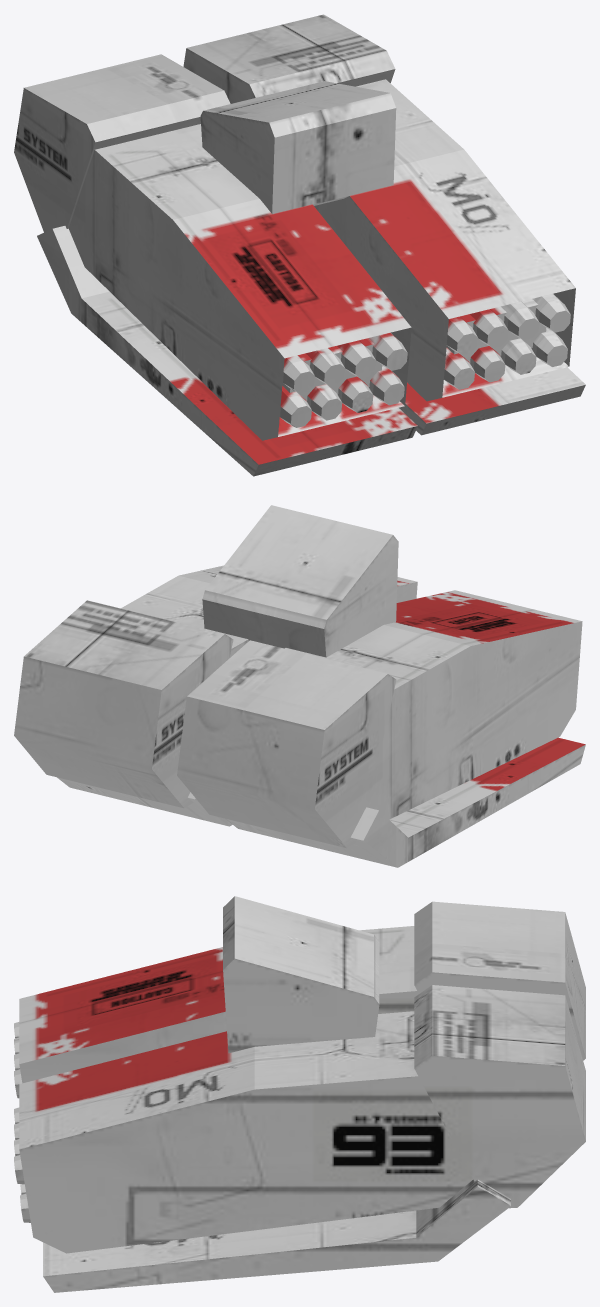
File: weapon02.FBX
3 renders of one model, top to bottom at view 1: azimuth 30°, elevation 25°; view 2: azimuth 150°, elevation 25°; view 3: azimuth 270°, elevation 25°, orthographic. The views are drawn at different scales.
Parts seen in each view (by area): view 1: weapon02; view 2: weapon02; view 3: weapon02.
Boxes of the visible parts, x1=… form: weapon02: x1=14, y1=14, x2=585, y2=476; weapon02: x1=14, y1=505, x2=585, y2=867; weapon02: x1=14, y1=896, x2=585, y2=1292.
Size of the model in its own units: 178 by 139 by 256.
Materials: 1 (1 with a texture image).
